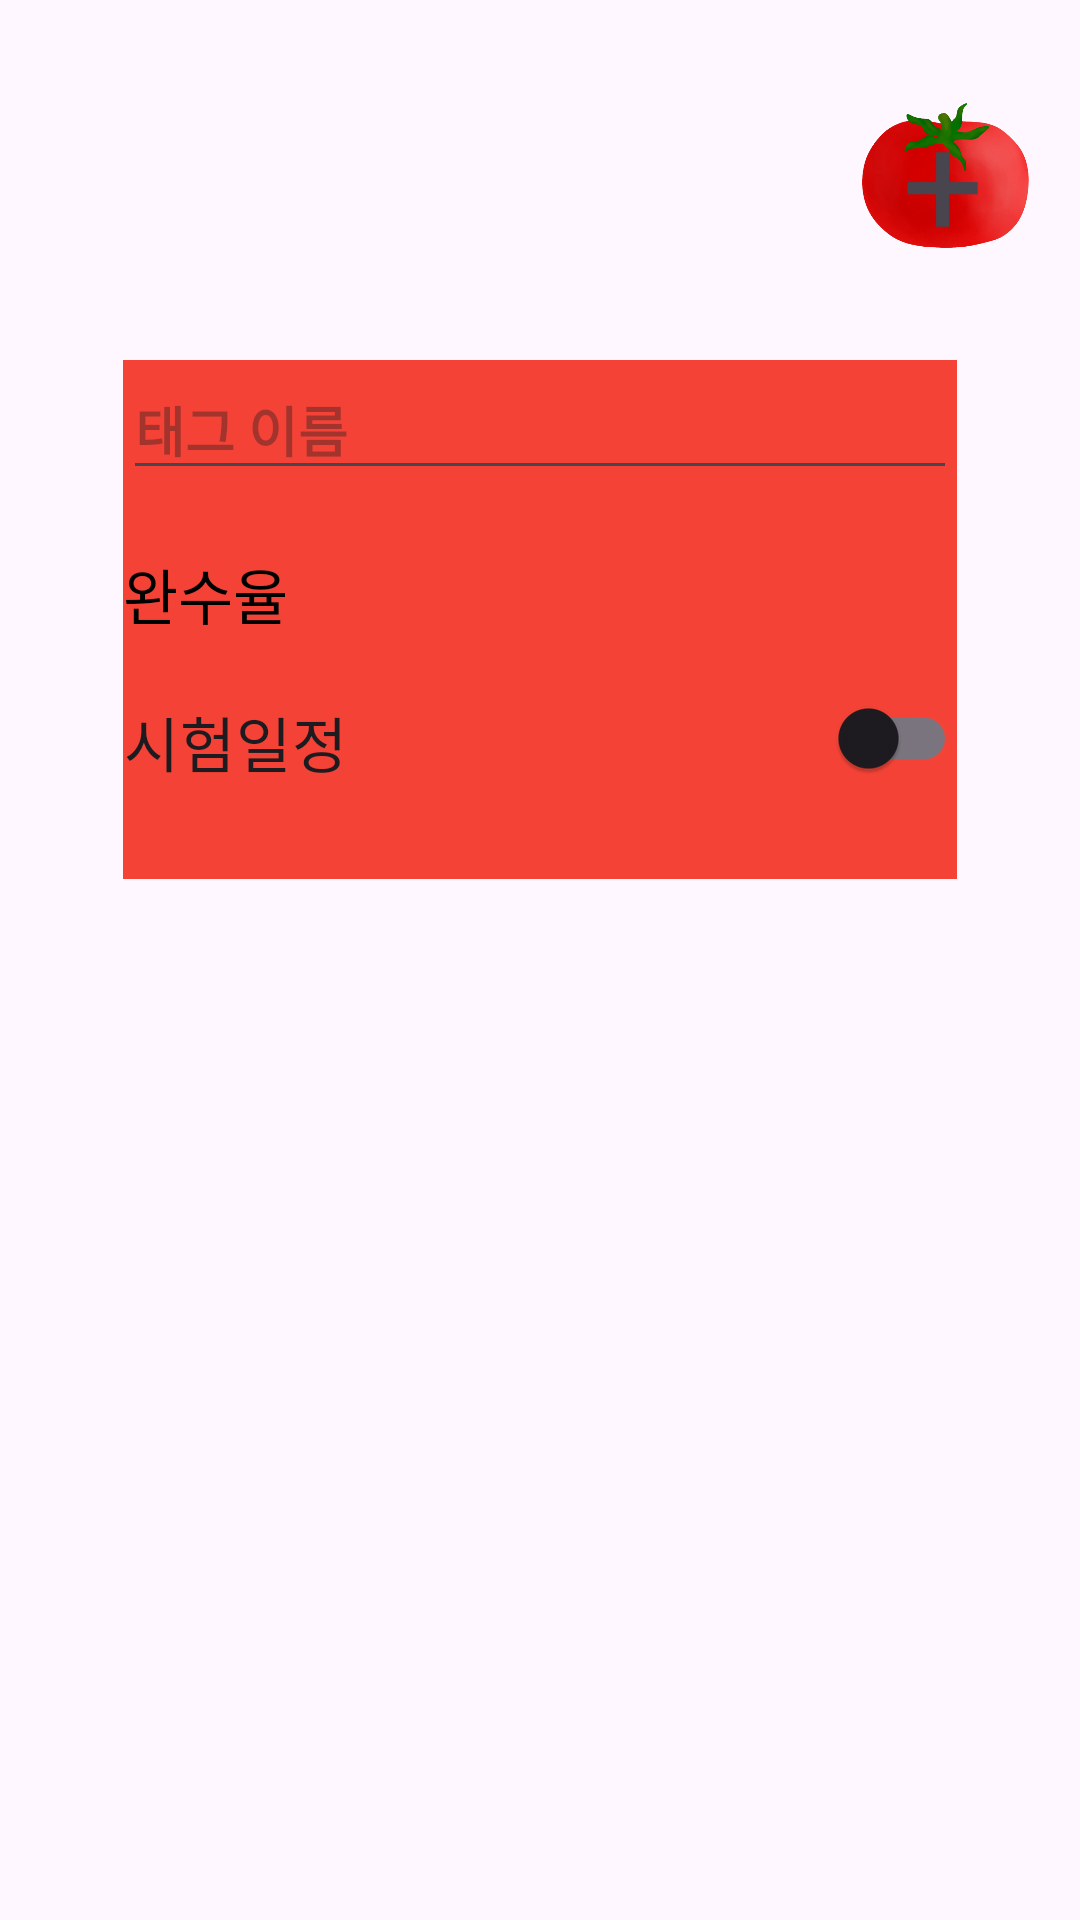

Icon bounding boxes for this 1080px×1920px phone screenshot, format [x1,y1,x2,y2]:
tomato: [862,103,1029,248]
